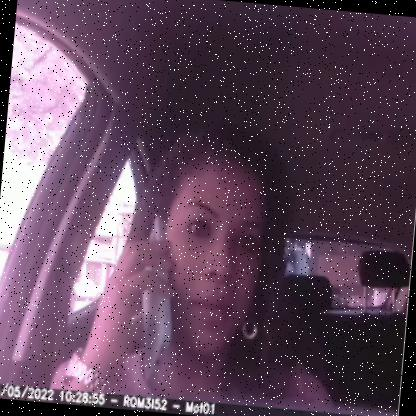phone: (121, 206, 185, 381)
